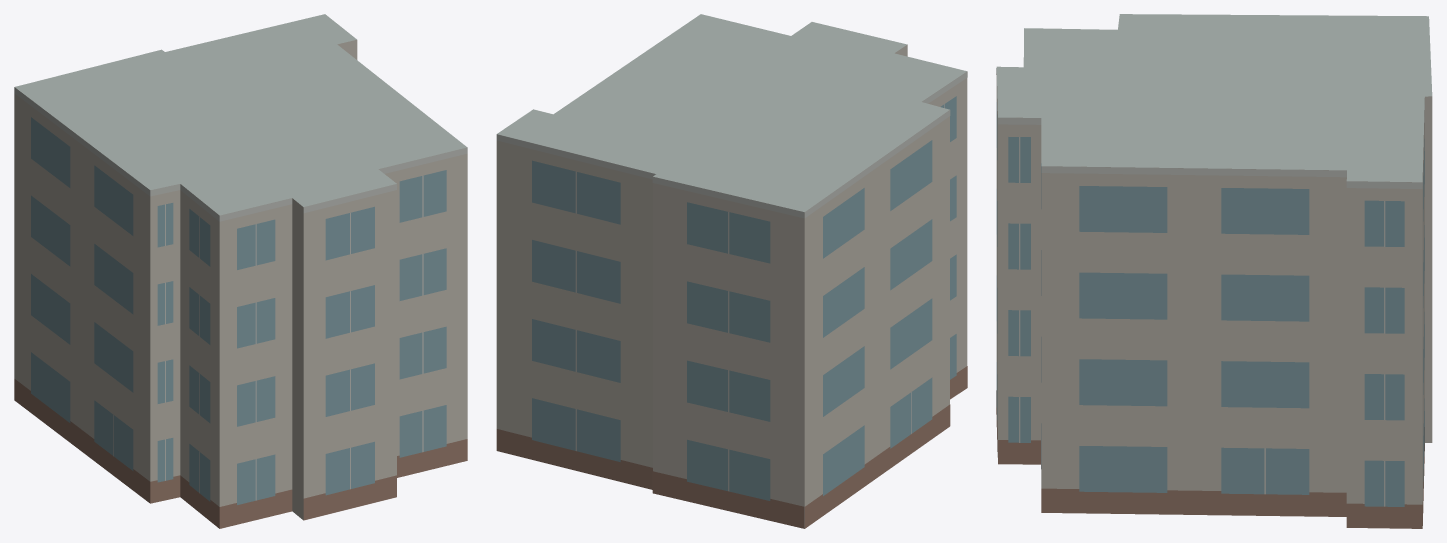
The model's file is survey-upis-32662903.glb.
3 views of the same model, side by side, from view 1: azimuth 30°, elevation 25°; view 2: azimuth 150°, elevation 25°; view 3: azimuth 270°, elevation 25° (orthographic). The views are drawn at different scales.
Parts seen in each view (by area): view 1: survey-upis-32662903.tmp; view 2: survey-upis-32662903.tmp; view 3: survey-upis-32662903.tmp.
Part boxes in pixels (x1,y1,x2,y2): survey-upis-32662903.tmp: [14, 14, 467, 528]; survey-upis-32662903.tmp: [496, 14, 967, 528]; survey-upis-32662903.tmp: [996, 14, 1432, 528].
Bounding box in the file's own units: 12.82 × 12.3 × 14.03.
